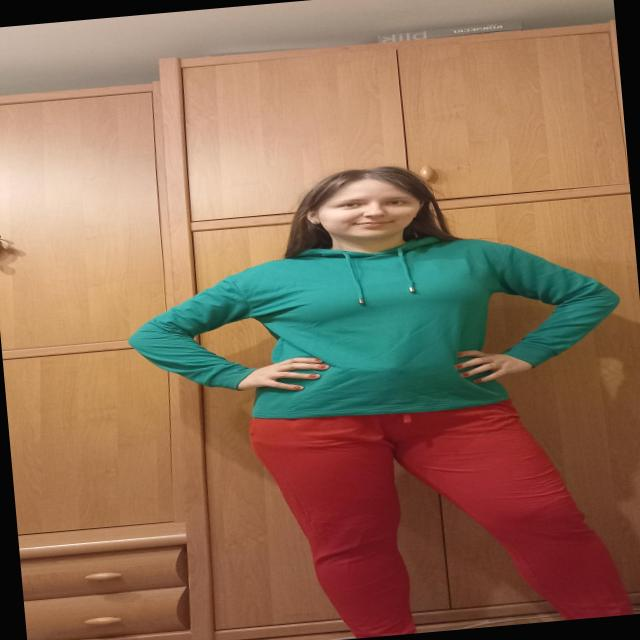pants: (247, 387, 631, 640)
sweater: (120, 221, 628, 436)
